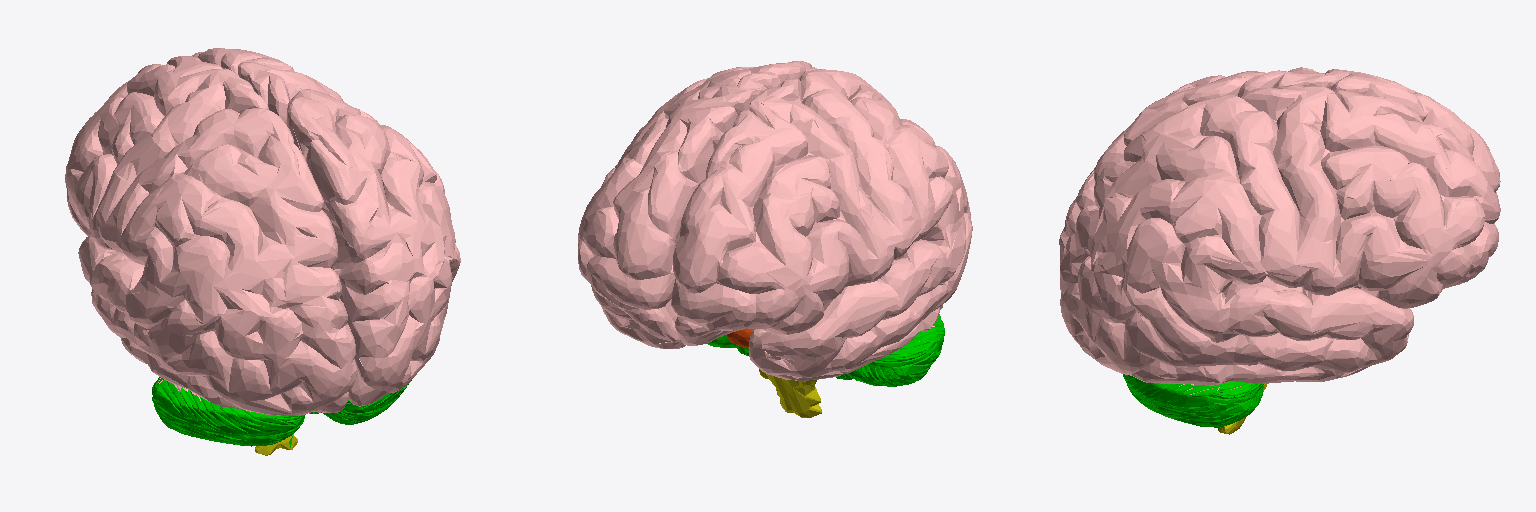
The model's file is Brain.obj.
The picture shows the model from 3 angles: view 1: azimuth 30°, elevation 25°; view 2: azimuth 150°, elevation 25°; view 3: azimuth 270°, elevation 25°; orthographic projection.
Parts seen in each view (by area): view 1: Brain_default; view 2: Brain_default; view 3: Brain_default.
Boxes of the visible parts, <box> form: Brain_default: <box>65,48,460,455</box>; Brain_default: <box>578,61,972,417</box>; Brain_default: <box>1059,67,1500,434</box>.
Bounding box in the file's own units: 5.29 × 5.61 × 6.4.